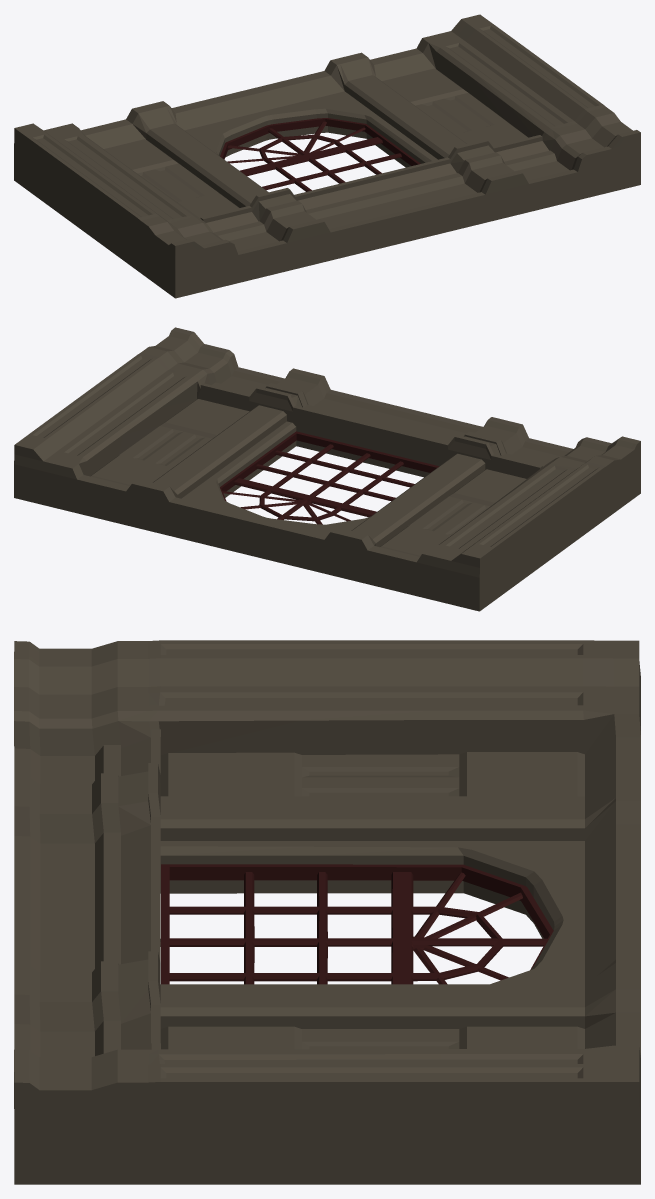
Rendered from P_F_MonoWAvecCadreSansW.fbx.
3 renders of one model, top to bottom at view 1: azimuth 30°, elevation 25°; view 2: azimuth 150°, elevation 25°; view 3: azimuth 270°, elevation 25°, orthographic. The views are drawn at different scales.
Visible parts, largest first — view 1: P_F_MonoWAvecCadreSansW; view 2: P_F_MonoWAvecCadreSansW; view 3: P_F_MonoWAvecCadreSansW.
Boxes of the visible parts, x1=… form: P_F_MonoWAvecCadreSansW: x1=14, y1=14, x2=640, y2=298; P_F_MonoWAvecCadreSansW: x1=14, y1=327, x2=640, y2=611; P_F_MonoWAvecCadreSansW: x1=14, y1=640, x2=640, y2=1184.
Size of the model in its own units: 650 by 70.5 by 390.
